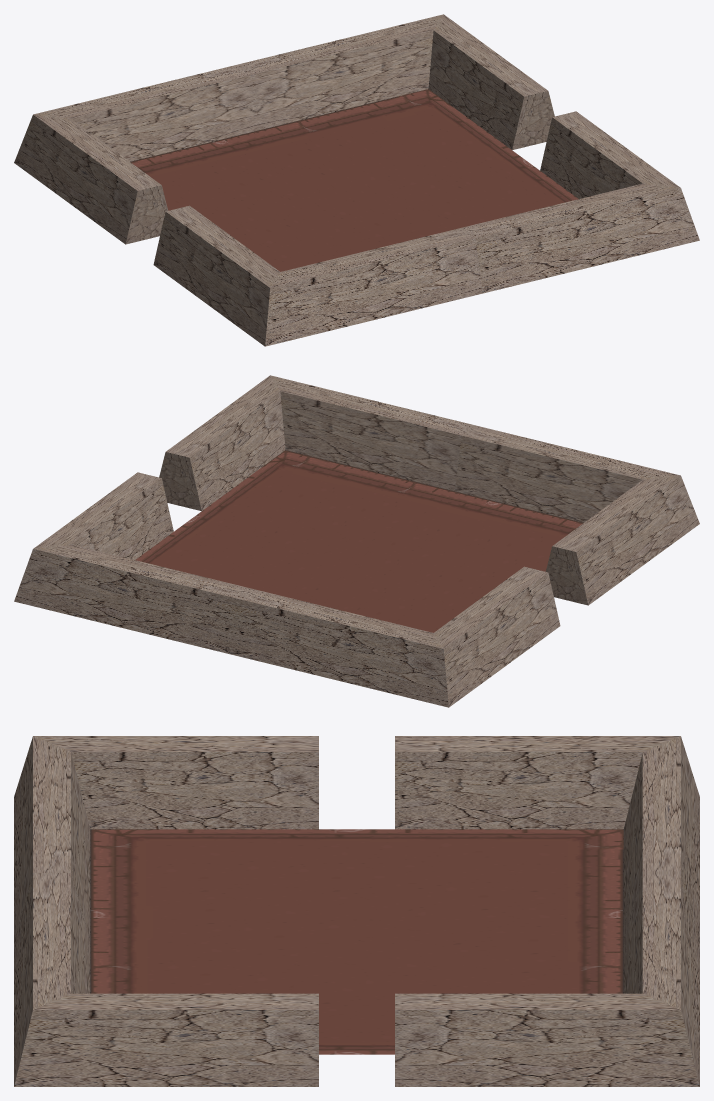
The model's file is sala_10.obj.
3 renders of one model, top to bottom at view 1: azimuth 30°, elevation 25°; view 2: azimuth 150°, elevation 25°; view 3: azimuth 270°, elevation 25°, orthographic. The views are drawn at different scales.
Visible parts, largest first — view 1: Ground_Plane, Wall.003_Cube.010, Wall.001_Cube.012, Wall.004_Cube.015, Wall.006_Cube.016, Wall.007_Cube.017, Wall.005_Cube.002, Wall.000_Cube.011, Wall.002_Cube.014; view 2: Ground_Plane, Wall.004_Cube.015, Wall.006_Cube.016, Wall.003_Cube.010, Wall.001_Cube.012, Wall.000_Cube.011, Wall.002_Cube.014, Wall.007_Cube.017, Wall.005_Cube.002; view 3: Ground_Plane, Wall.005_Cube.002, Wall.002_Cube.014, Wall.000_Cube.011, Wall.007_Cube.017, Wall.001_Cube.012, Wall.006_Cube.016, Wall.003_Cube.010, Wall.004_Cube.015.
Boxes of the visible parts, x1,y1,x2,y2 form: Ground_Plane: [130, 89, 578, 271]; Wall.003_Cube.010: [462, 183, 699, 293]; Wall.001_Cube.012: [265, 228, 482, 346]; Wall.004_Cube.015: [239, 14, 443, 129]; Wall.006_Cube.016: [33, 64, 259, 161]; Wall.007_Cube.017: [14, 114, 168, 244]; Wall.005_Cube.002: [428, 14, 554, 150]; Wall.000_Cube.011: [153, 205, 279, 346]; Wall.002_Cube.014: [540, 111, 680, 198]; Ground_Plane: [135, 450, 583, 632]; Wall.004_Cube.015: [14, 544, 251, 654]; Wall.006_Cube.016: [231, 589, 448, 707]; Wall.003_Cube.010: [270, 375, 474, 490]; Wall.001_Cube.012: [454, 425, 680, 522]; Wall.000_Cube.011: [545, 475, 699, 605]; Wall.002_Cube.014: [159, 375, 285, 511]; Wall.007_Cube.017: [434, 566, 560, 707]; Wall.005_Cube.002: [33, 472, 173, 559]; Ground_Plane: [90, 829, 623, 1054]; Wall.005_Cube.002: [395, 993, 699, 1086]; Wall.002_Cube.014: [14, 993, 318, 1086]; Wall.000_Cube.011: [33, 736, 318, 829]; Wall.007_Cube.017: [395, 736, 680, 829]; Wall.001_Cube.012: [14, 736, 90, 941]; Wall.006_Cube.016: [623, 736, 699, 941]; Wall.003_Cube.010: [14, 873, 90, 1085]; Wall.004_Cube.015: [623, 873, 699, 1085].
Bounding box in the file's own units: 18 × 2 × 18.
